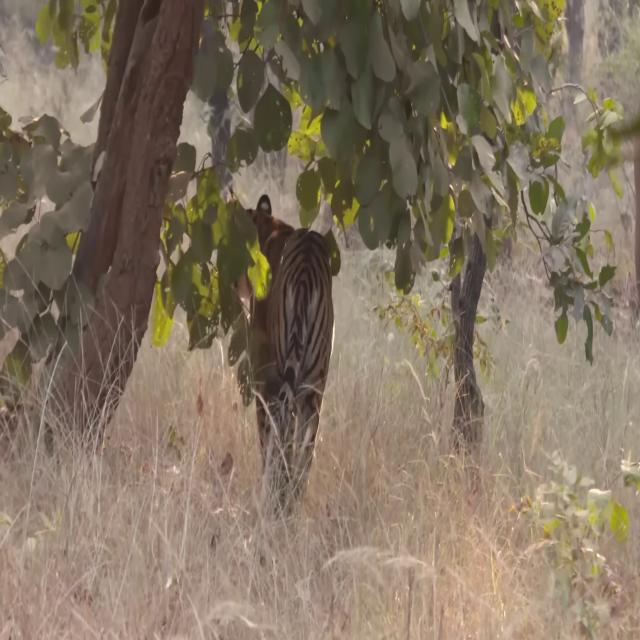tiger: (224, 181, 335, 518)
